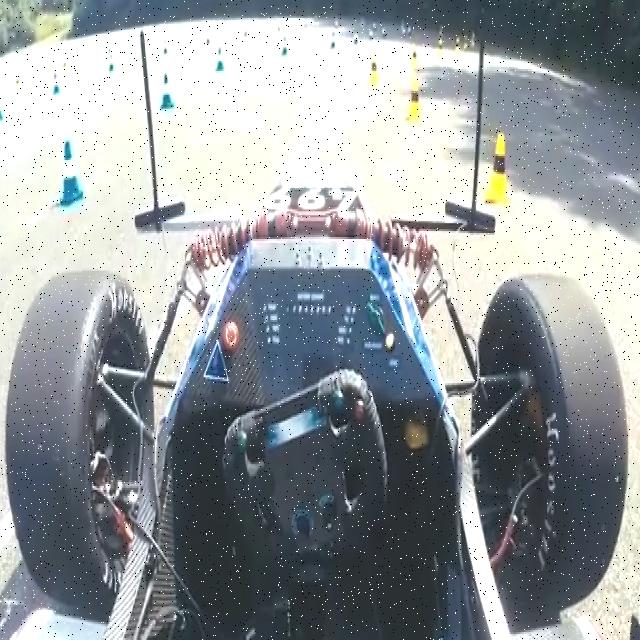blue_cone: (56, 137, 88, 210), (156, 70, 176, 114), (212, 44, 226, 78), (50, 71, 64, 100), (278, 33, 290, 61), (160, 36, 170, 58), (108, 56, 118, 77), (0, 92, 6, 124), (329, 29, 337, 52), (353, 28, 361, 50)
yellow_cone: (483, 124, 511, 210), (404, 74, 424, 122), (366, 51, 382, 89), (408, 44, 422, 72), (453, 33, 462, 61), (14, 72, 24, 97), (435, 35, 445, 59), (61, 57, 70, 77)
